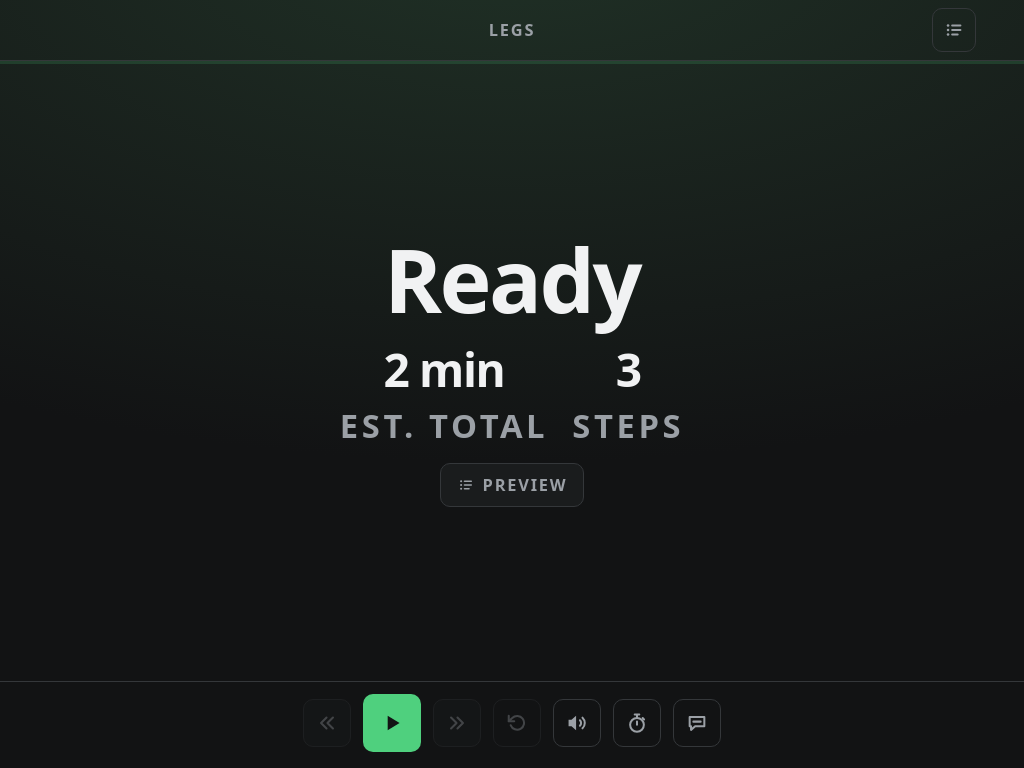
Scenario: RunScreen: the preview › closes itself when the routine starts
Click the button "Preview".
click(512, 485)  # box 440,463 -> 584,507
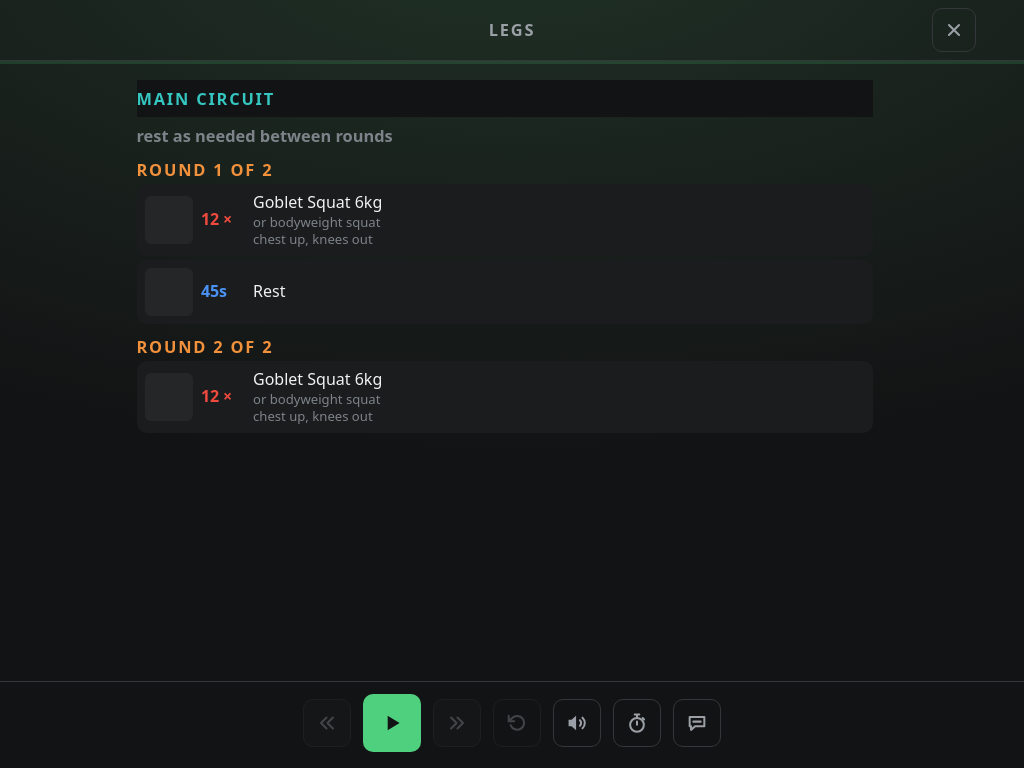
Click the button named "Start".
click(392, 723)  # box 363,694 -> 421,752
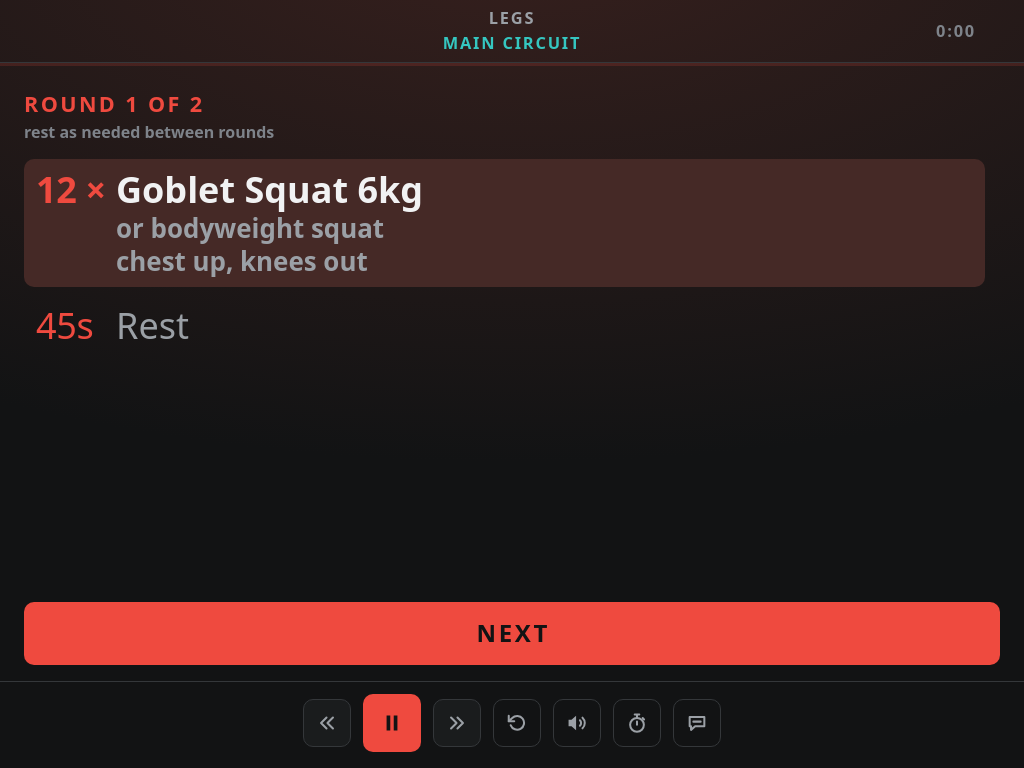
Now the text "Round 2 of 2" is gone
